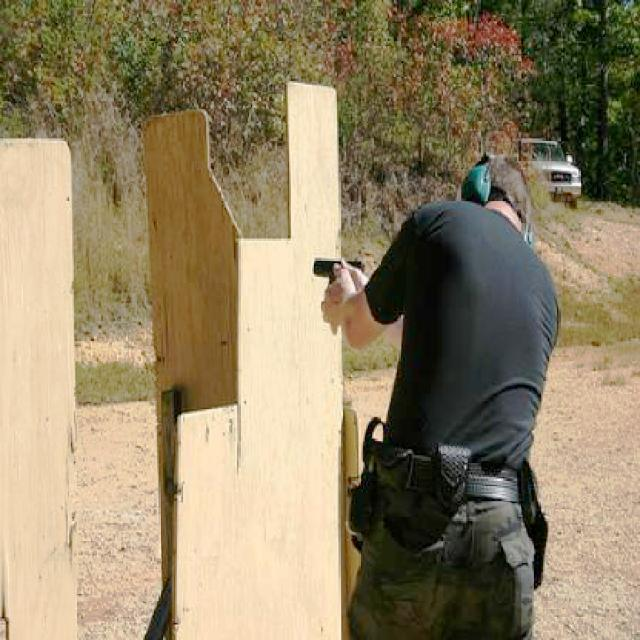Gun: (312, 252, 380, 305)
